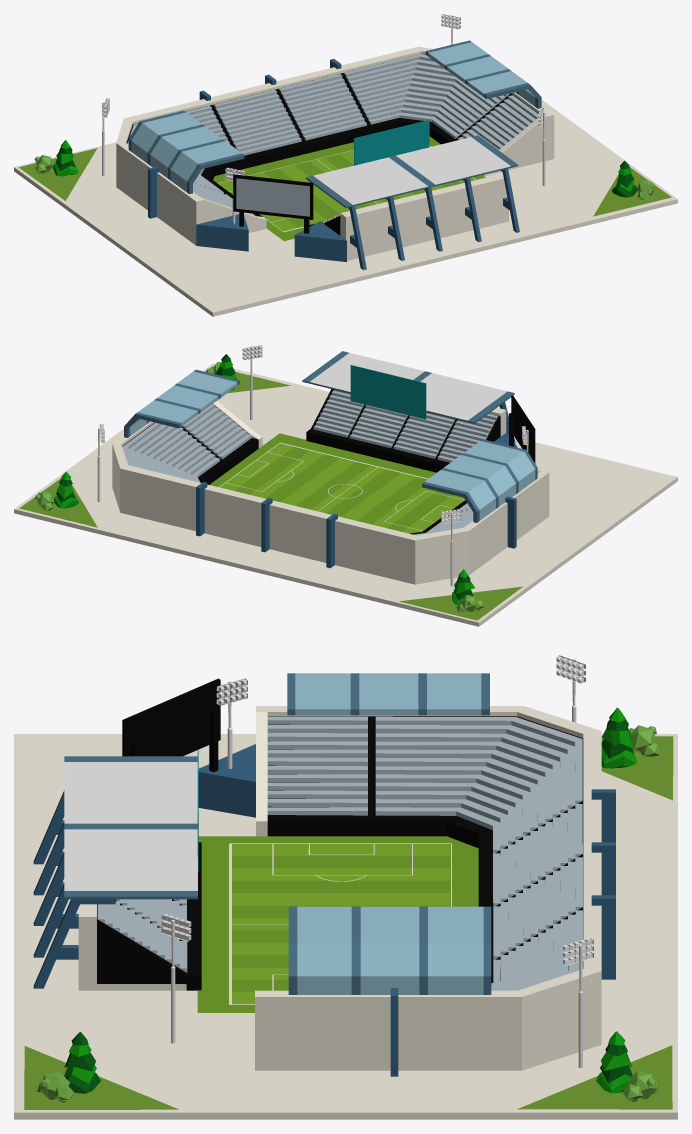
The model's file is stadium.glb.
The picture shows the model from 3 angles, top to bottom: view 1: azimuth 30°, elevation 25°; view 2: azimuth 150°, elevation 25°; view 3: azimuth 270°, elevation 25°; orthographic projection. The views are drawn at different scales.
Parts seen in each view (by area): view 1: Floor, StadiumBuilding, Seat, Roof3, Roof1, Roof2, Plane.005, Pitch, StadiumEntrance, Plane.004, Bounds, Plane.006 (+7 smaller); view 2: Floor, StadiumBuilding, Seat, Pitch, Roof1, Roof3, Roof2, Plane.004, Bounds, Plane.006, Plane.007, Plane.005 (+8 smaller); view 3: Floor, StadiumBuilding, Seat, Roof3, Pitch, Roof2, Bounds, Roof1, Plane.005, Plane.007, Plane.008, StadiumEntrance (+15 smaller).
Part boxes in pixels (x1,y1,x2,y2): Floor: [14, 100, 677, 316]; StadiumBuilding: [116, 46, 554, 260]; Seat: [127, 54, 538, 223]; Roof3: [306, 135, 518, 207]; Roof1: [128, 110, 244, 194]; Roof2: [425, 40, 541, 108]; Plane.005: [233, 174, 313, 233]; Pitch: [218, 146, 475, 231]; StadiumEntrance: [196, 214, 346, 261]; Plane.004: [354, 120, 429, 165]; Bounds: [213, 136, 485, 241]; Plane.006: [19, 148, 97, 200]; Floor: [14, 363, 677, 626]; StadiumBuilding: [112, 389, 549, 584]; Seat: [122, 389, 497, 535]; Pitch: [220, 443, 464, 533]; Roof1: [422, 439, 537, 522]; Roof3: [302, 351, 514, 423]; Roof2: [124, 369, 239, 437]; Plane.004: [350, 365, 426, 419]; Bounds: [210, 433, 436, 487]; Plane.006: [399, 586, 522, 620]; Plane.007: [19, 478, 97, 527]; Plane.005: [509, 395, 535, 463]; Floor: [14, 734, 677, 1119]; StadiumBuilding: [78, 706, 601, 1070]; Seat: [97, 716, 582, 990]; Roof3: [64, 756, 197, 899]; Pitch: [232, 844, 449, 1004]; Roof2: [288, 906, 491, 994]; Bounds: [197, 836, 478, 1012]; Roof1: [287, 673, 489, 715]; Plane.005: [122, 678, 220, 772]; Plane.007: [517, 1045, 672, 1109]; Plane.008: [24, 1046, 178, 1109]; StadiumEntrance: [198, 744, 255, 817].
Size of the model in its own units: 53.45 by 10.23 by 39.59.
